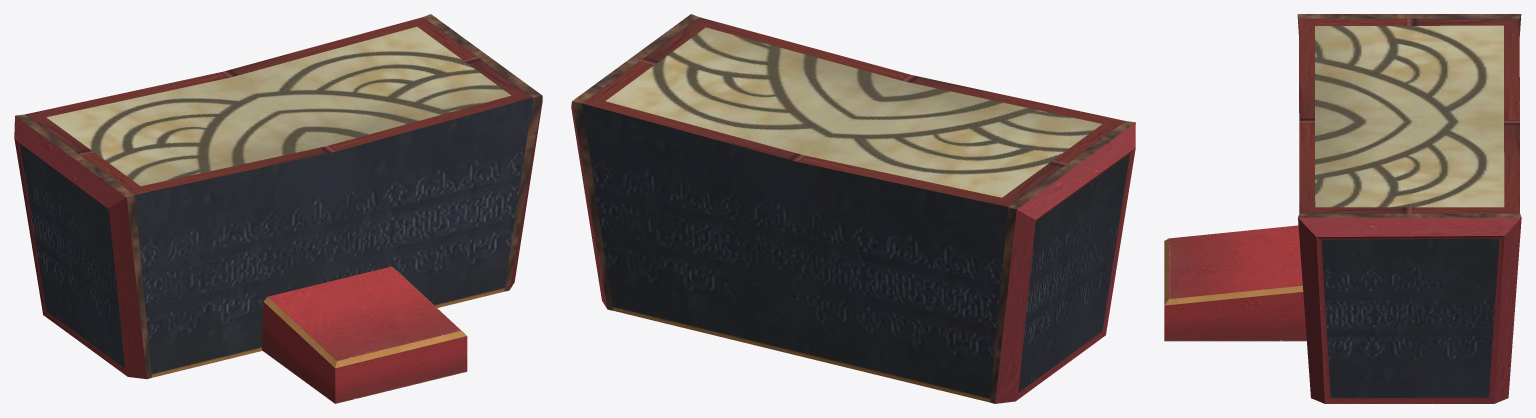
File: main-altar.glb
The picture shows the model from 3 angles, left to right: view 1: azimuth 30°, elevation 25°; view 2: azimuth 150°, elevation 25°; view 3: azimuth 270°, elevation 25°; orthographic projection. The views are drawn at different scales.
Parts seen in each view (by area): view 1: MainAltar; view 2: MainAltar; view 3: MainAltar.
Part boxes in pixels (x1=…): MainAltar: x1=14, y1=14, x2=542, y2=403; MainAltar: x1=571, y1=14, x2=1135, y2=403; MainAltar: x1=1164, y1=14, x2=1521, y2=403.
Bounding box in the file's own units: 2.92 × 1.24 × 2.08.
4 materials, 4 textured.
